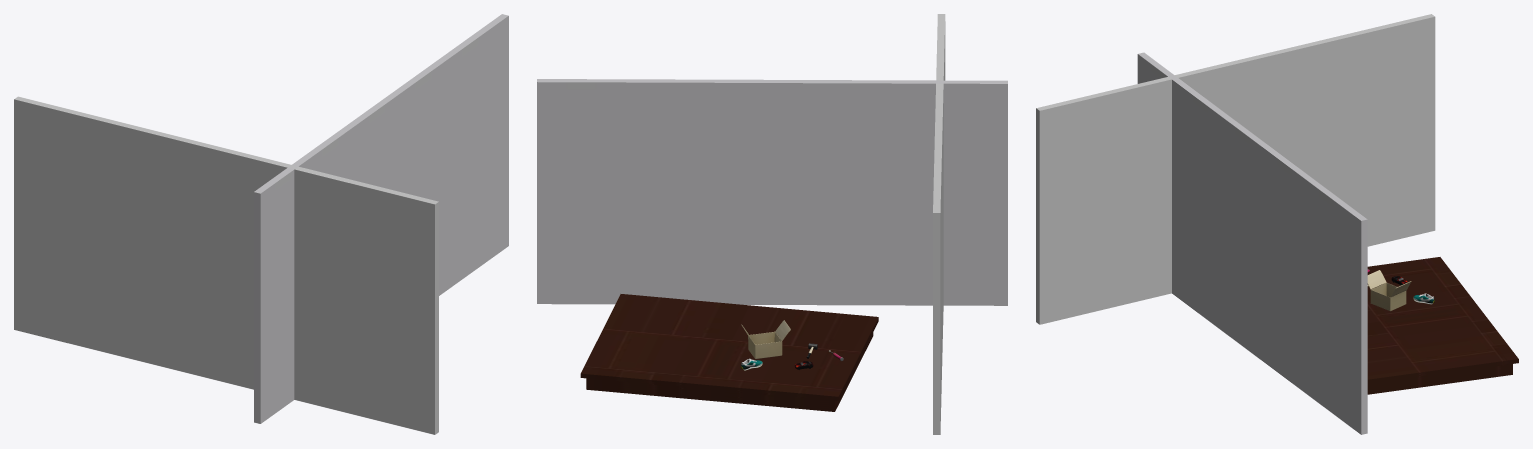
Rendered from ours.glb.
3 renders of one model, left to right at view 1: azimuth 30°, elevation 25°; view 2: azimuth 150°, elevation 25°; view 3: azimuth 270°, elevation 25°, orthographic. The views are drawn at different scales.
Visible parts, largest first — view 1: wall_1, wall_0; view 2: wall_0, table_0, wall_1, obj_box_0; view 3: wall_1, wall_0, table_0, obj_box_0.
Part boxes in pixels (x1,y1,x2,y2): wall_1: [14, 96, 438, 434]; wall_0: [254, 14, 508, 423]; wall_0: [537, 79, 1007, 305]; table_0: [580, 294, 878, 411]; wall_1: [933, 14, 945, 434]; obj_box_0: [741, 320, 790, 358]; wall_1: [1036, 14, 1435, 324]; wall_0: [1137, 52, 1367, 434]; table_0: [1367, 257, 1518, 394]; obj_box_0: [1367, 270, 1411, 311].
Size of what is drawn, in the model's own units: 5.39 by 2.6 by 5.31.
8 materials, 8 textured.
